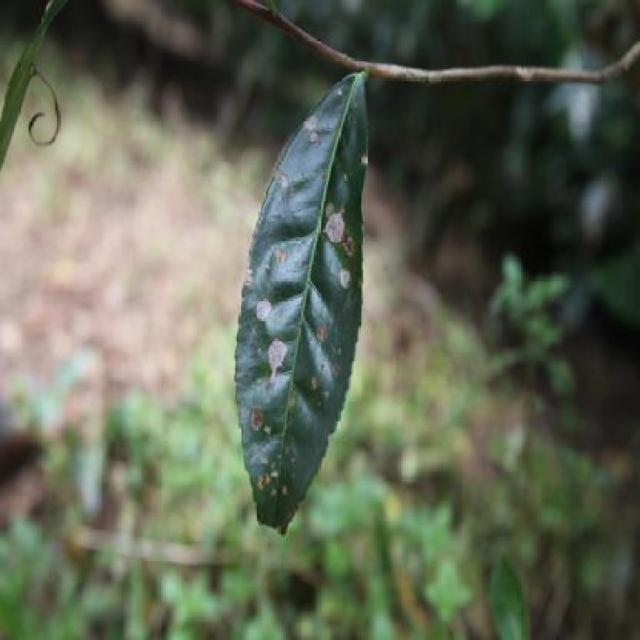Leaf rust of tea: (235, 66, 377, 542)
